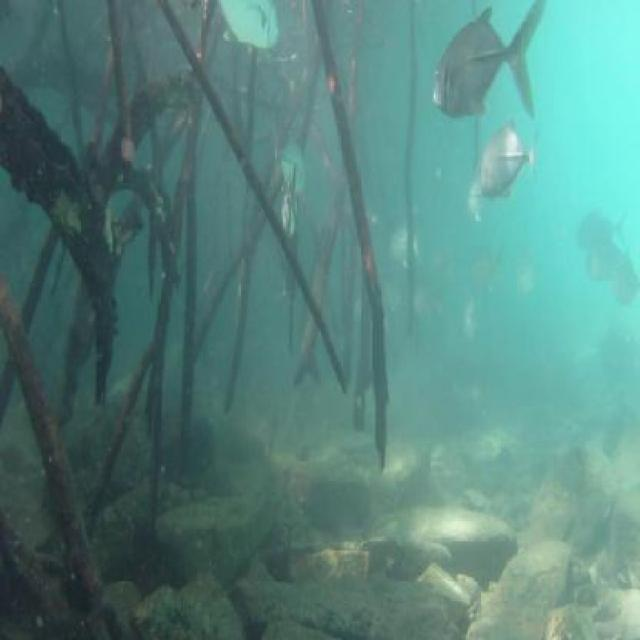Caranx_sexfasciatus_juvenile: (430, 3, 548, 122), (471, 120, 547, 206), (202, 0, 288, 60), (572, 193, 636, 256), (269, 123, 311, 199), (382, 212, 423, 285), (269, 172, 308, 242), (466, 237, 505, 300), (585, 224, 621, 284), (408, 272, 441, 336), (508, 251, 542, 311), (452, 292, 480, 352), (609, 259, 637, 313), (375, 273, 400, 324)
